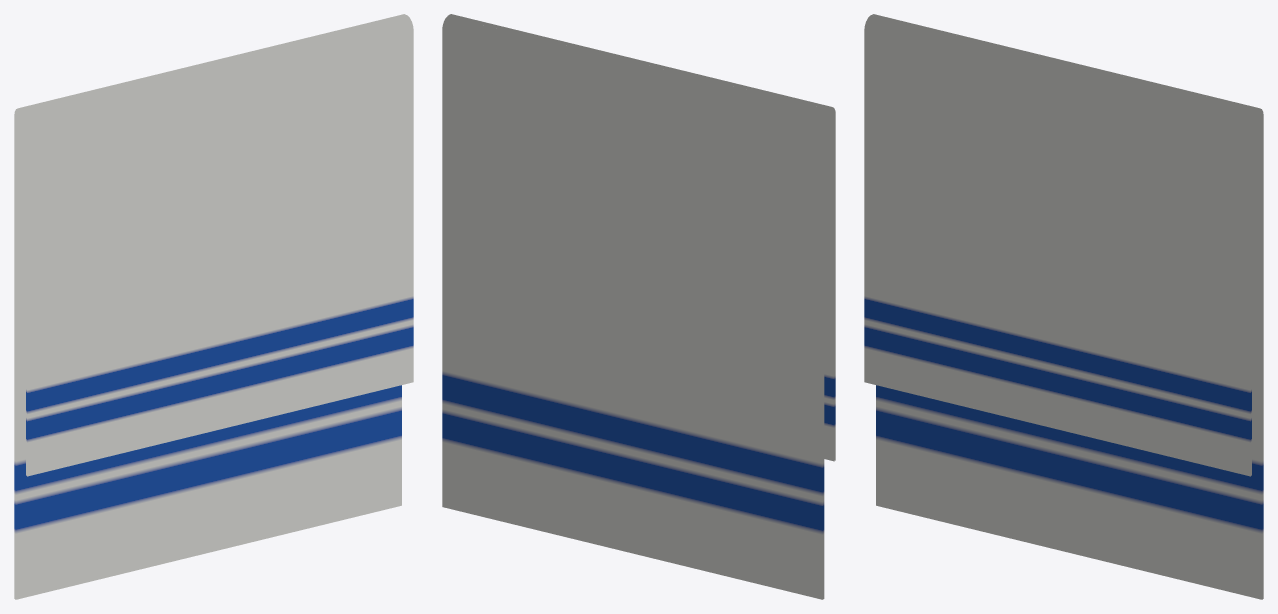
The model's file is toalla.obj.
3 renders of one model, left to right at view 1: azimuth 30°, elevation 25°; view 2: azimuth 150°, elevation 25°; view 3: azimuth 330°, elevation 25°, orthographic.
Bounding box in the file's own units: 0.46 × 0.562 × 0.0264.
1 material, 1 textured.
